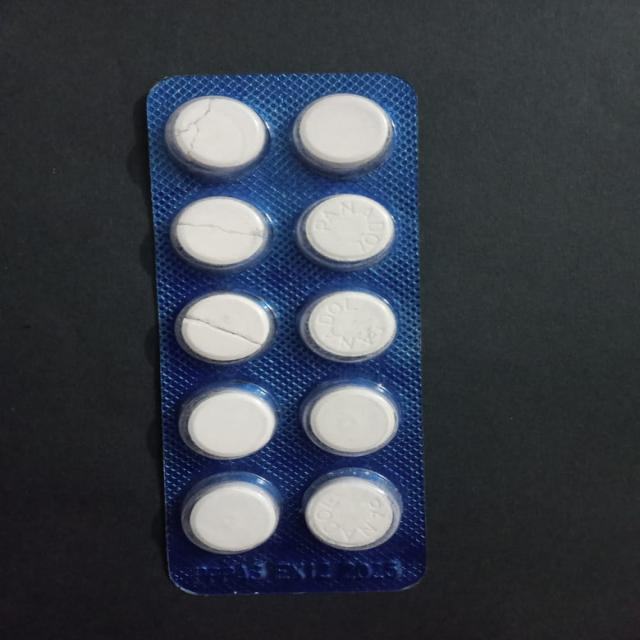defect: (162, 93, 271, 180), (167, 191, 276, 275), (171, 288, 278, 367)
